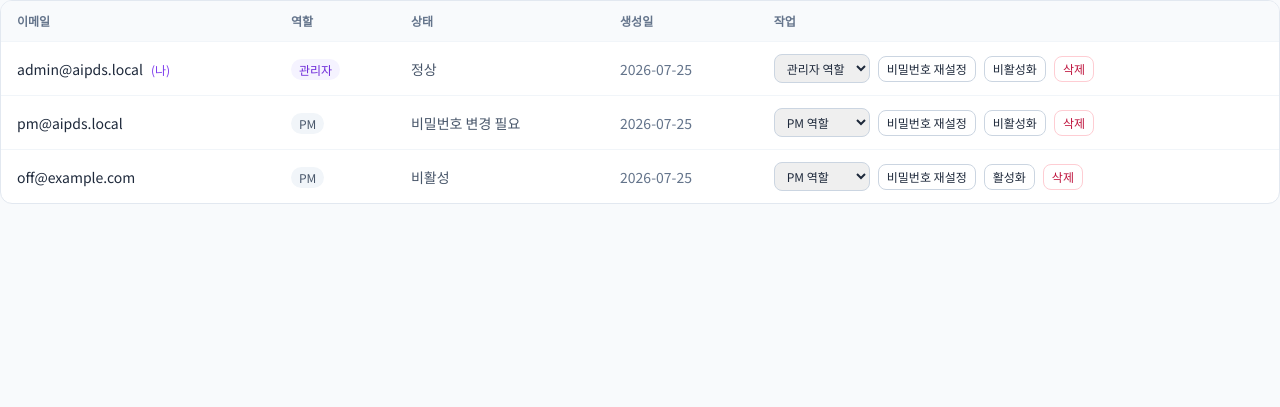
Test case: UserTable › removes the reset password from the document once the panel is closed
What coordinates should you click on to do the following:
click the button "비밀번호 재설정" in the row of "pm@aipds.local"
I would click on:
 (927, 122)
Its box is x1=878 y1=110 x2=976 y2=136.
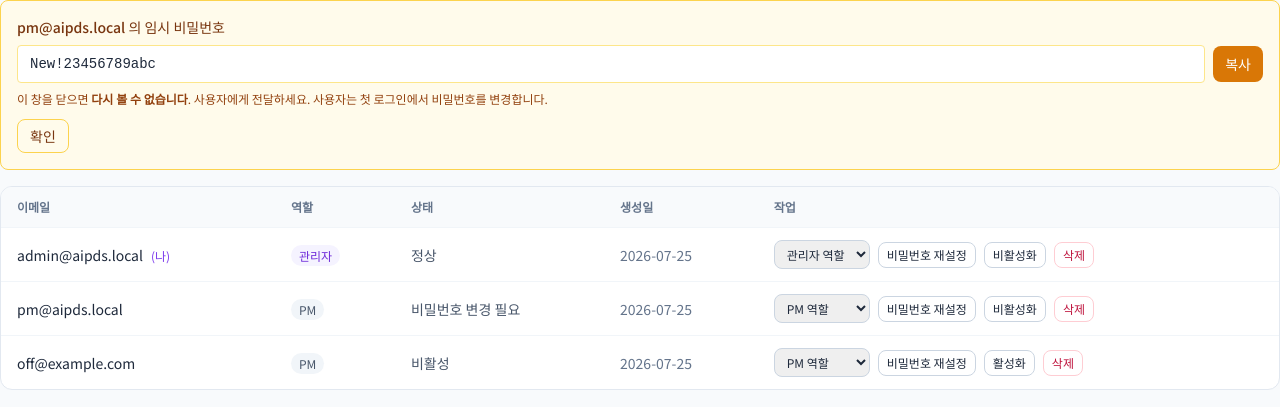
Result: the text "New!23456789abc" is shown at x1=17 y1=45 x2=1205 y2=83
What coordinates should you click on to do the following:
click the button "확인"
I would click on:
 (43, 136)
Its box is x1=17 y1=119 x2=69 y2=153.
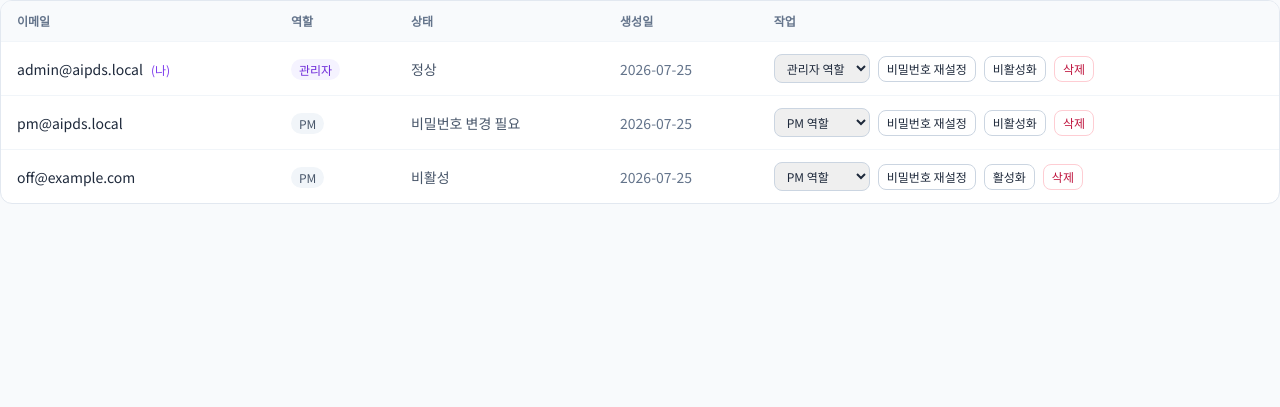
Result: the text "New!23456789abc" is gone
